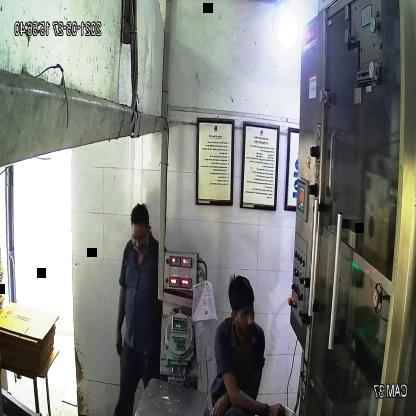no_goggles: (234, 304, 256, 322)
